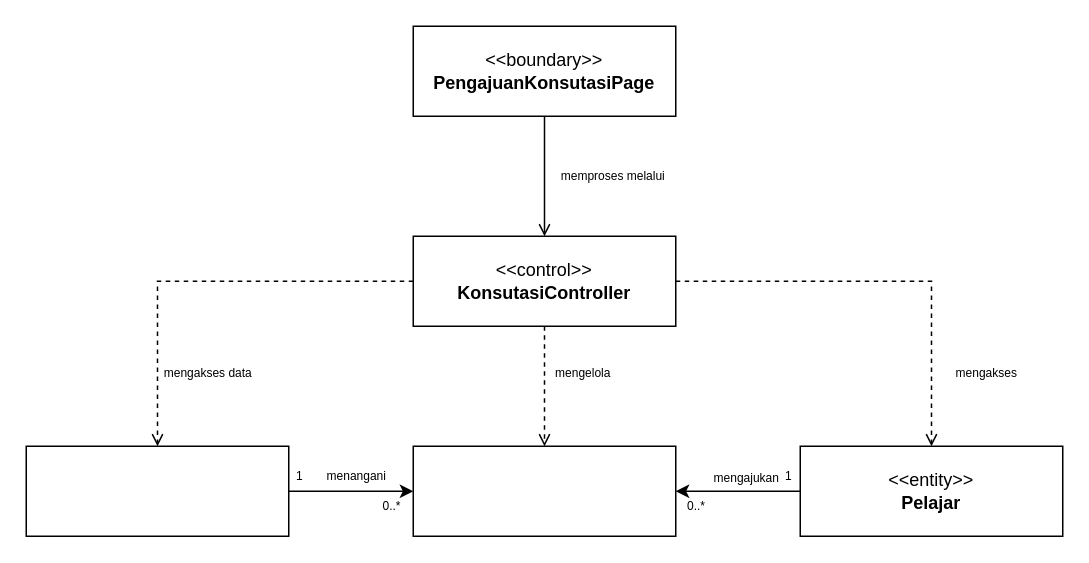
Some shapes in this 1089 by 563 pixel diagram are drawn without their labels. The centre of each missing label's shape, as x and y in pixels:
<<entity>> JadwalKonsultasi: point 544,490
<<entity>> TenagaKesehatan: point 157,490
